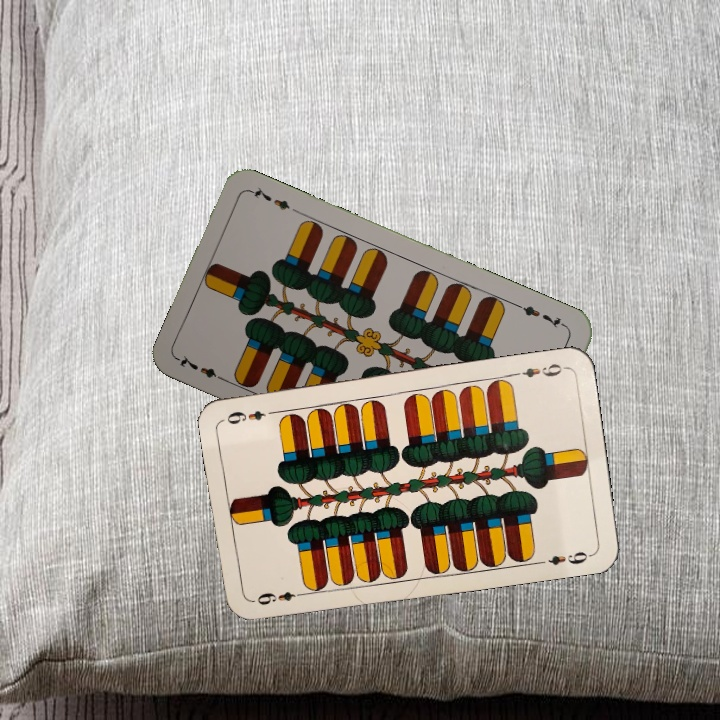E7: (174, 351, 230, 385), (513, 300, 569, 331)
E9: (509, 359, 568, 381), (248, 587, 307, 608)
